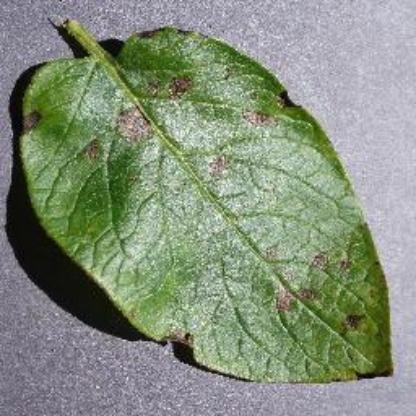Early-Blight: (14, 13, 400, 380)
